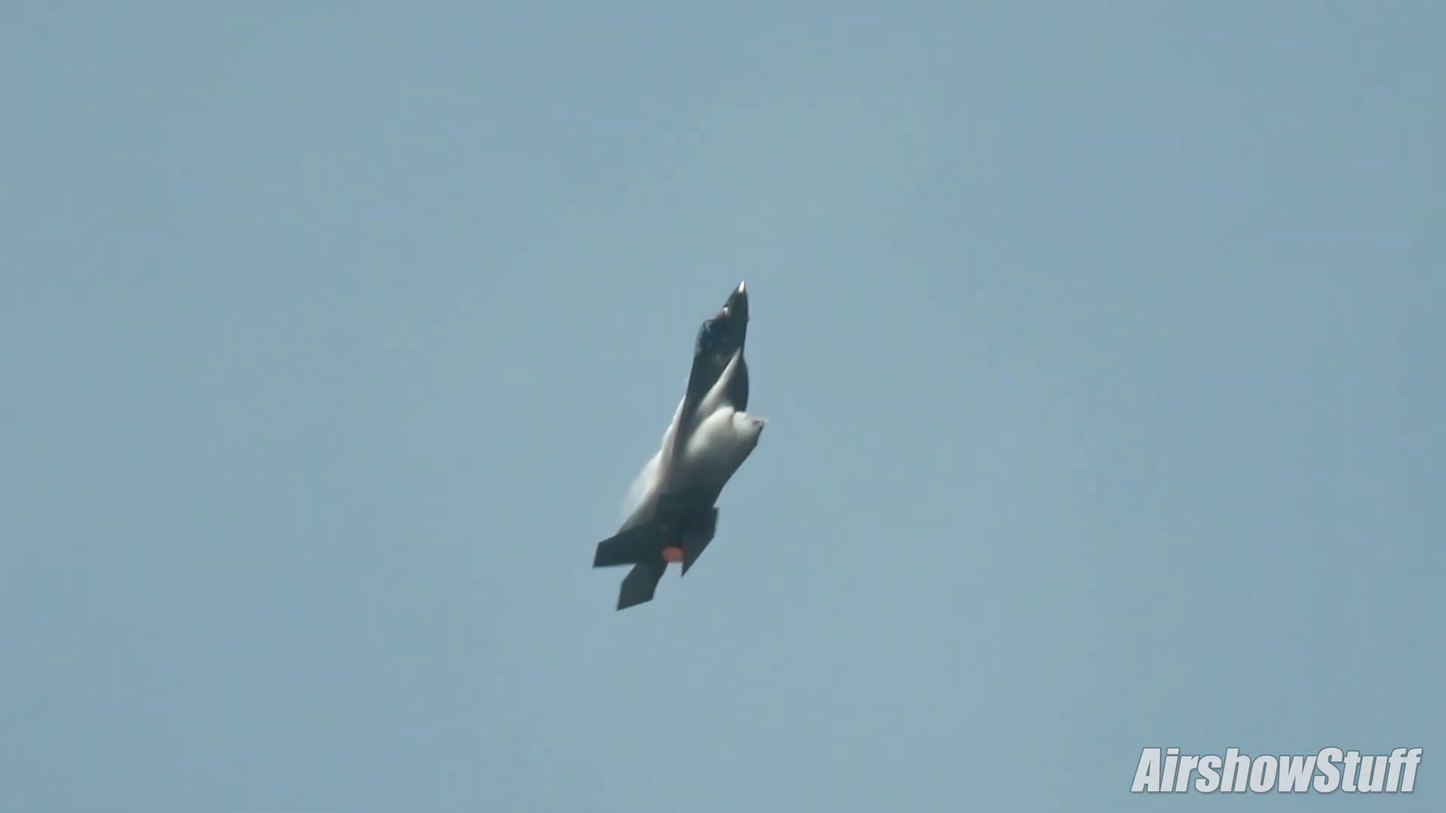F35: (590, 272, 775, 624)
